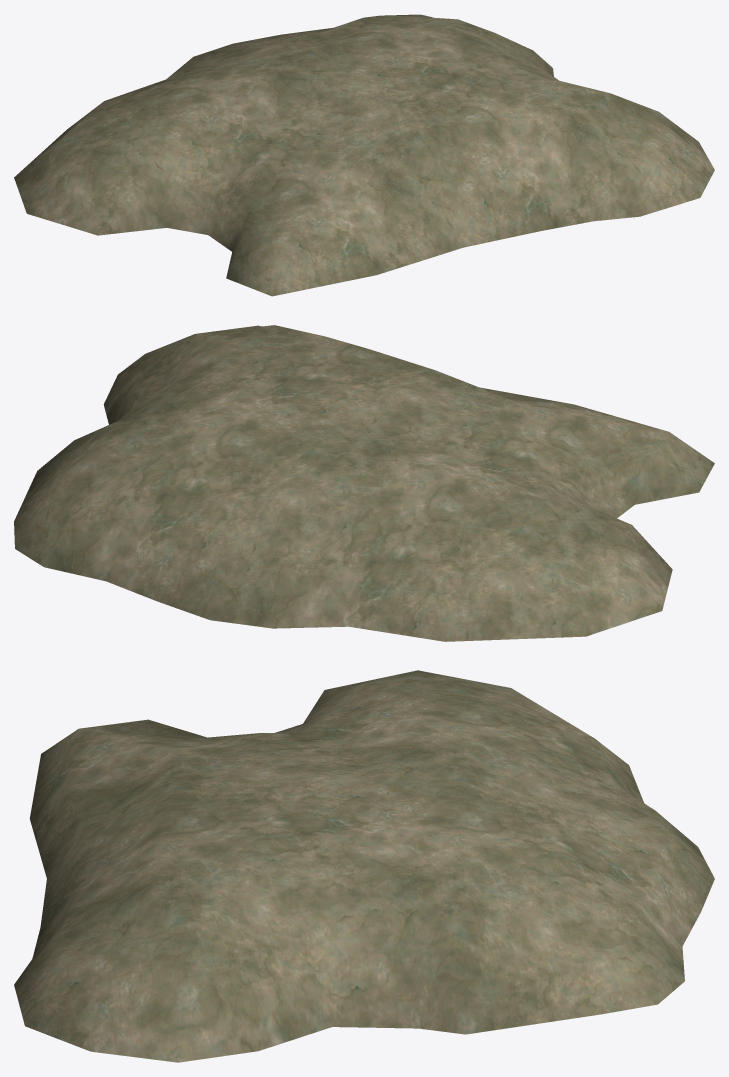
The model's file is OVERHILL_A_01_CHIMNEY_CAVE_ROOF.fbx.
3 renders of one model, top to bottom at view 1: azimuth 30°, elevation 25°; view 2: azimuth 150°, elevation 25°; view 3: azimuth 270°, elevation 25°, orthographic. The views are drawn at different scales.
Visible parts, largest first — view 1: OVERHILL_A_01_CHIMNEY_CAVE_ROOF; view 2: OVERHILL_A_01_CHIMNEY_CAVE_ROOF; view 3: OVERHILL_A_01_CHIMNEY_CAVE_ROOF.
Part boxes in pixels (x1,y1,x2,y2): OVERHILL_A_01_CHIMNEY_CAVE_ROOF: (14, 14, 714, 296); OVERHILL_A_01_CHIMNEY_CAVE_ROOF: (14, 325, 714, 641); OVERHILL_A_01_CHIMNEY_CAVE_ROOF: (14, 670, 714, 1062).
Bounding box in the file's own units: 124613 × 16118 × 99036.
Materials: 1 (1 with a texture image).
